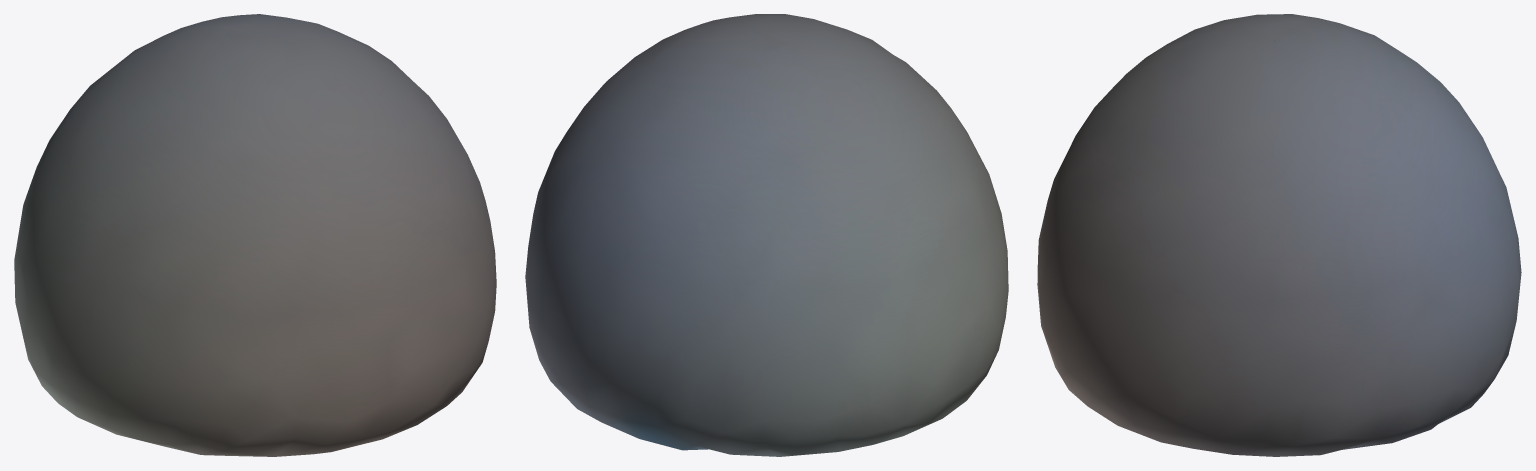
3 renders of one model, left to right at view 1: azimuth 30°, elevation 25°; view 2: azimuth 150°, elevation 25°; view 3: azimuth 270°, elevation 25°, orthographic.
Parts seen in each view (by area): view 1: wall; view 2: wall; view 3: wall.
Part boxes in pixels (x1,y1,x2,y2): wall: [14, 14, 496, 456]; wall: [525, 14, 1008, 456]; wall: [1037, 14, 1521, 456].
Bounding box in the file's own units: 958 × 742 × 960.
3 materials, 3 textured.
